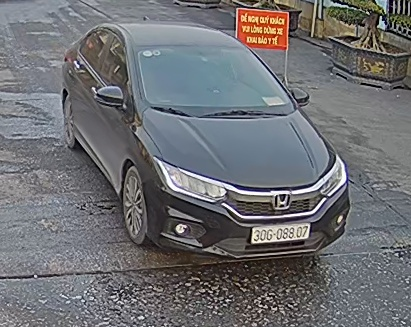vehicle plate: (248, 220, 314, 242)
